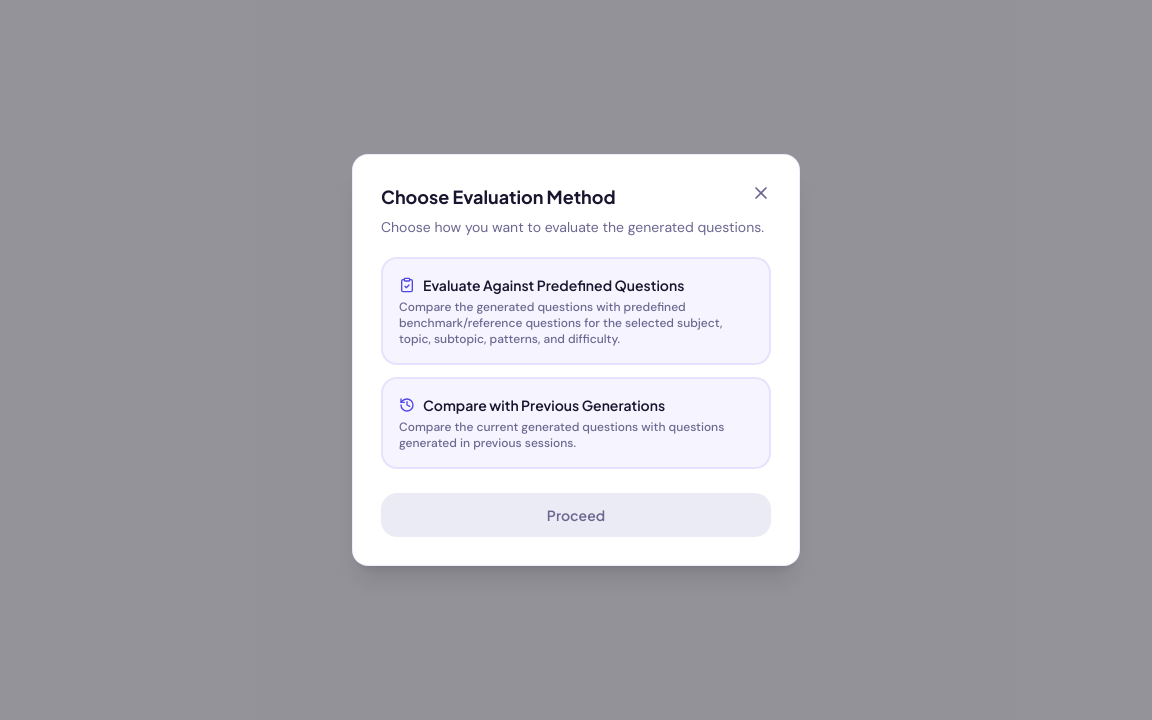
Scenario: EvaluationMethodDialog › Compare with Previous Generations › shows an error and stays on the saved-list when comparison preparation fails
Click the button "Compare with Previous Generations": (576, 423) [381,377,771,469]
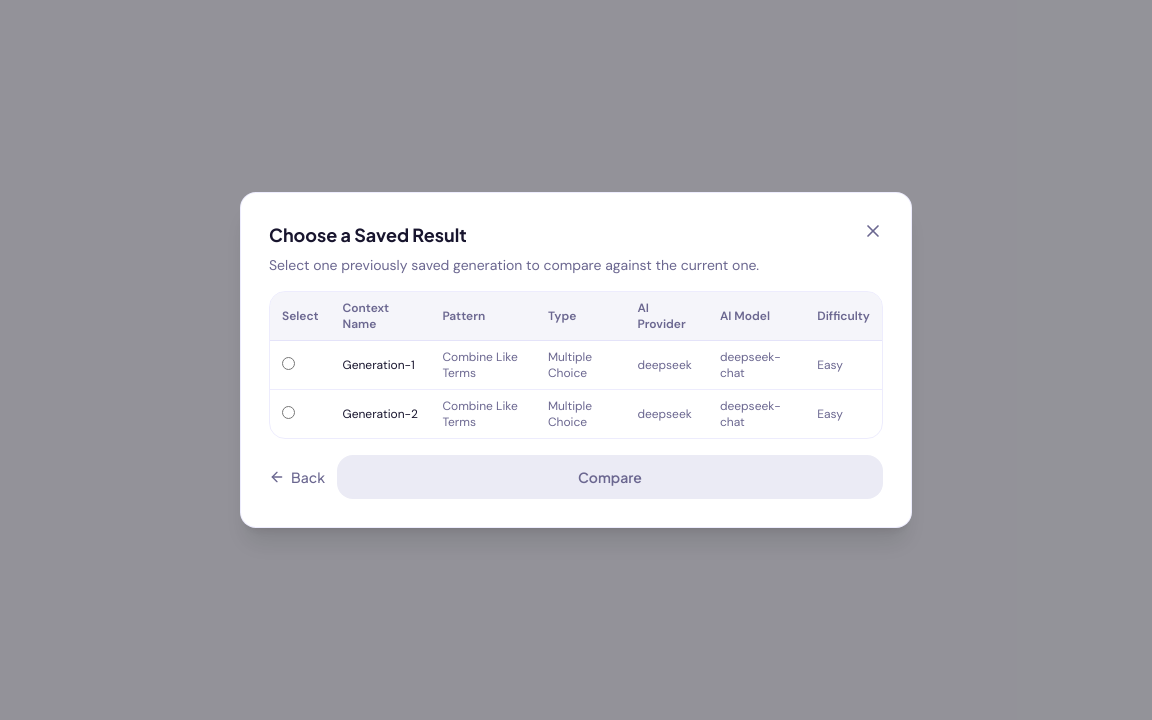
Click the radio button named "select generation-1": (288, 363) [282,356,295,370]
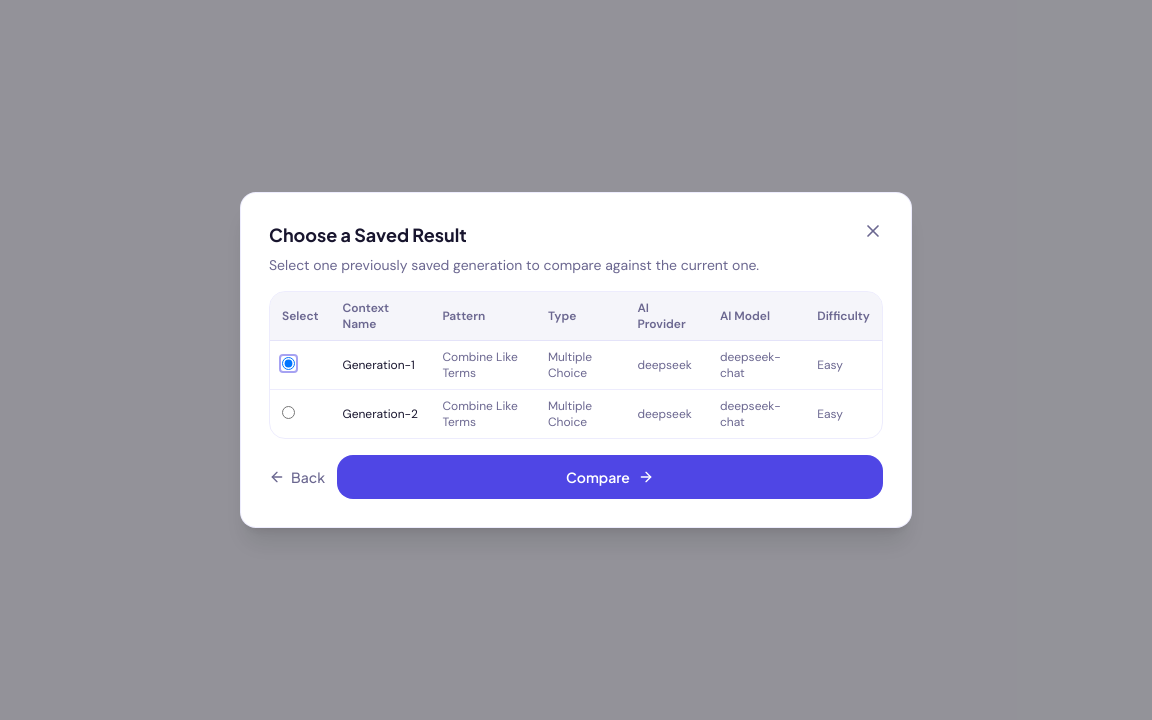
Click the button "Compare": (610, 477) [337,455,883,499]
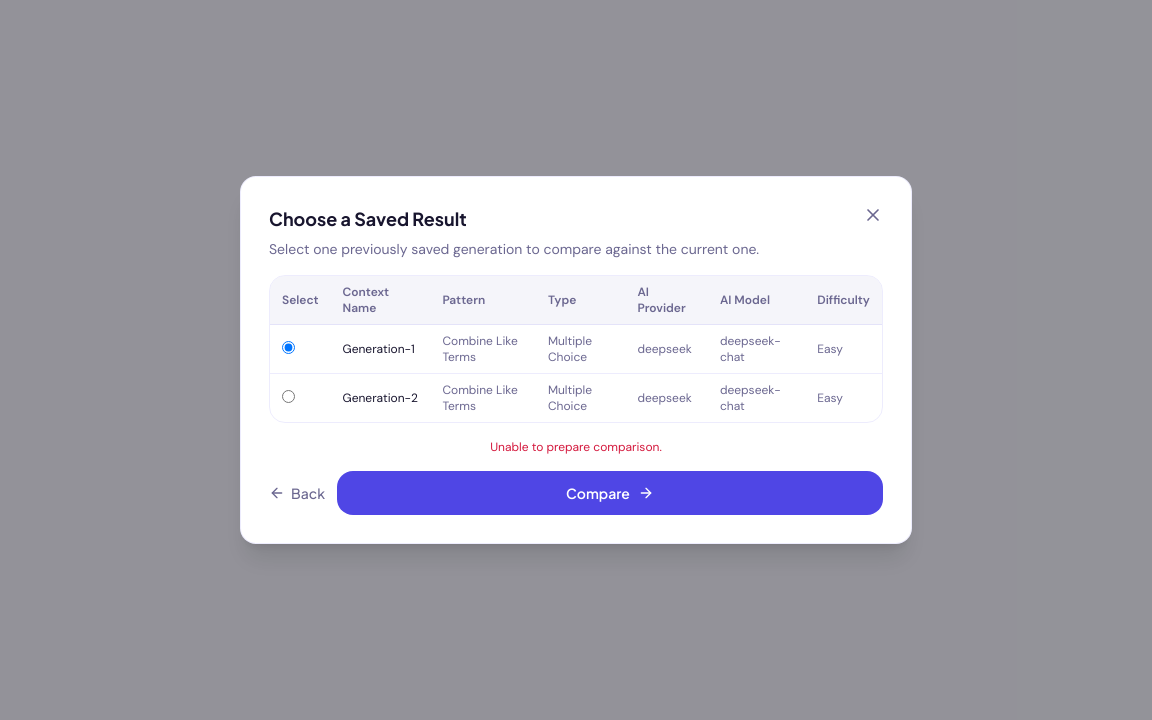
Expected: the radio button named "select generation-1" is shown, [282,340,295,354]
Expected: the message reads "Unable to prepare comparison.", [490,439,662,455]
